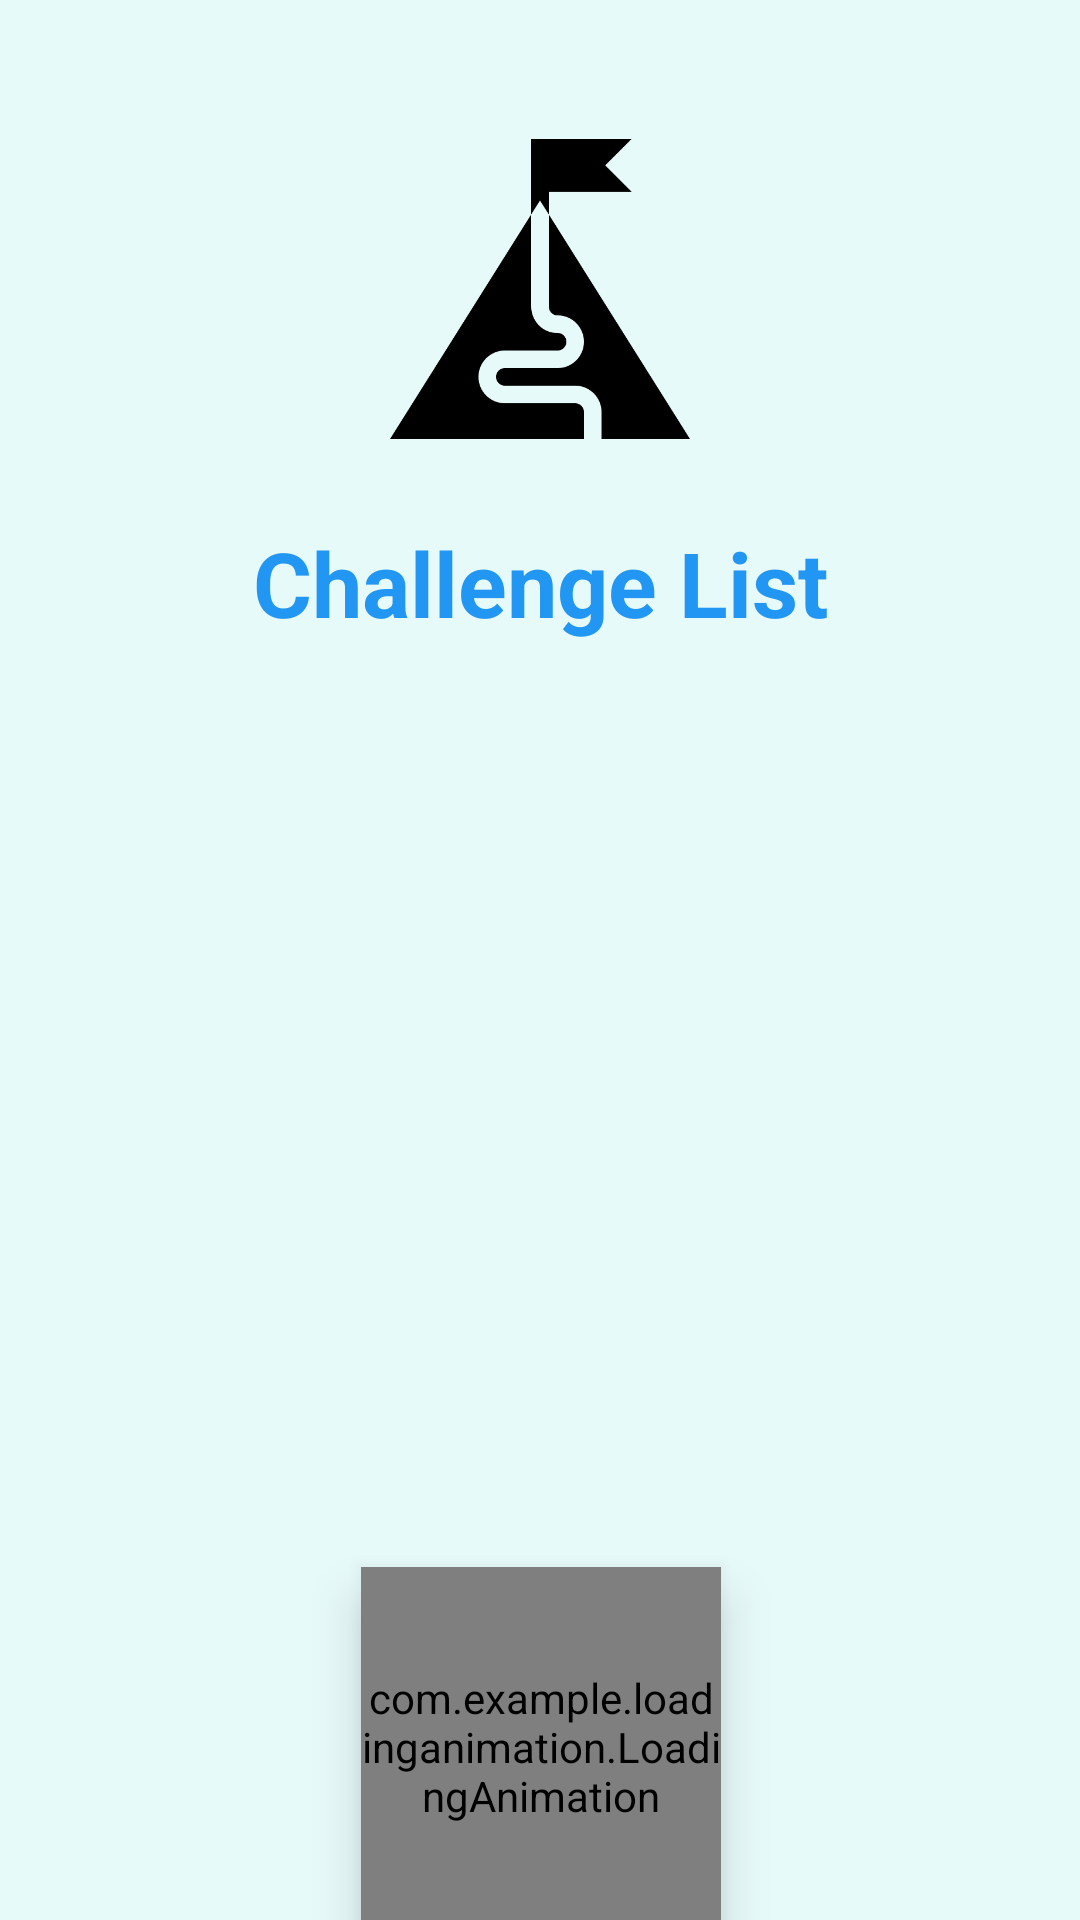

Named icons in this screenshot (1080*1920) and their bounding boxes, (x1, y1, x2, y2):
mission: (390, 139, 690, 439)
